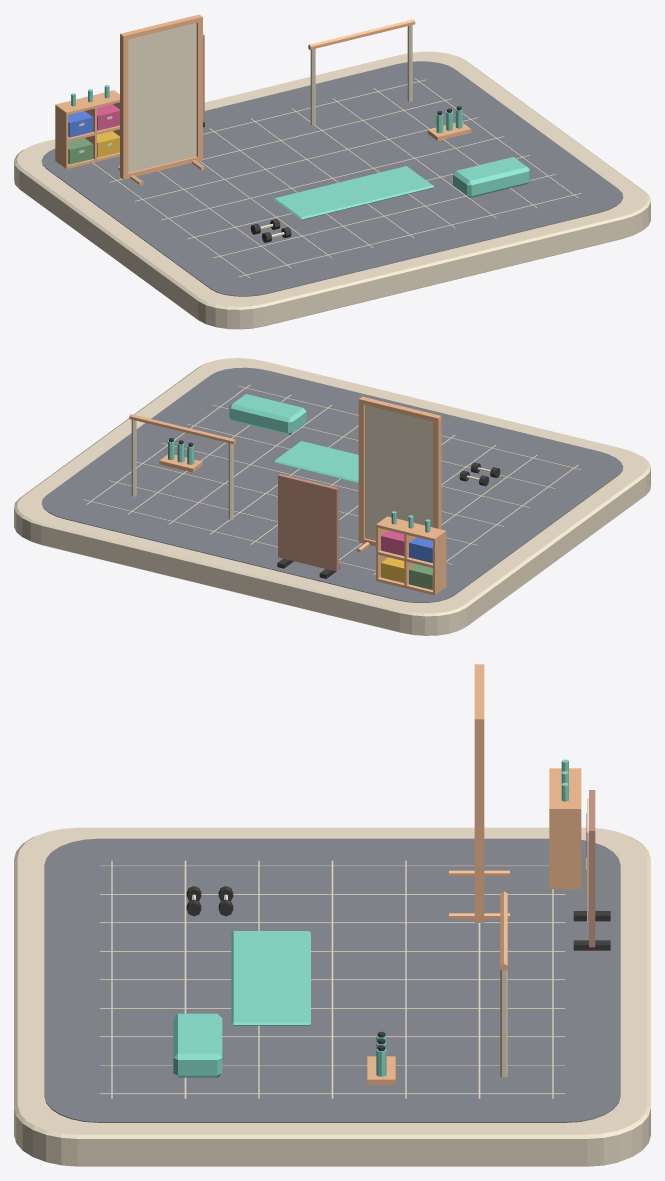
The picture shows the model from 3 angles, top to bottom: view 1: azimuth 30°, elevation 25°; view 2: azimuth 150°, elevation 25°; view 3: azimuth 270°, elevation 25°; orthographic projection. The views are drawn at different scales.
Parts seen in each view (by area): view 1: COM-02 Floor Surface, COM-01 Rounded Base Direct, Mirror face, Exercise mat, Step, Frame, Frame.001, Cubbies divider, Cubbies shelf.002, Bar, Frame.003, Storage bin (+7 smaller); view 2: COM-02 Floor Surface, COM-01 Rounded Base Direct, Mirror face, Panel, Step, Exercise mat, Frame, Frame.001, Cubbies divider, Cubbies shelf.002, Bar, Frame.003 (+7 smaller); view 3: COM-02 Floor Surface, COM-01 Rounded Base Direct, Exercise mat, Step, Cubbies divider.002, Frame.001, Cubbies shelf.002, Panel, Grout X.008, Grout X.002, Grout X, Post.001 (+3 smaller).
Boxes of the visible parts, x1,y1,x2,y2 form: COM-02 Floor Surface: [41, 61, 623, 296]; COM-01 Rounded Base Direct: [14, 51, 650, 329]; Mirror face: [128, 23, 196, 172]; Exercise mat: [274, 166, 434, 219]; Step: [453, 157, 530, 197]; Frame: [120, 35, 128, 177]; Frame.001: [196, 18, 202, 159]; Cubbies divider: [55, 105, 68, 168]; Cubbies shelf.002: [55, 90, 119, 114]; Bar: [308, 19, 415, 49]; Frame.003: [120, 14, 202, 39]; Storage bin: [68, 138, 93, 164]; COM-02 Floor Surface: [42, 367, 623, 602]; COM-01 Rounded Base Direct: [14, 358, 650, 635]; Mirror face: [365, 405, 432, 540]; Panel: [278, 473, 338, 571]; Step: [229, 394, 306, 434]; Exercise mat: [274, 441, 358, 483]; Frame: [433, 417, 441, 529]; Frame.001: [358, 400, 364, 540]; Cubbies divider: [433, 531, 446, 595]; Cubbies shelf.002: [376, 516, 445, 540]; Bar: [129, 414, 236, 444]; Frame.003: [358, 396, 441, 421]; COM-02 Floor Surface: [44, 838, 620, 1122]; COM-01 Rounded Base Direct: [14, 827, 650, 1166]; Exercise mat: [231, 931, 310, 1025]; Step: [173, 1013, 222, 1077]; Cubbies divider.002: [549, 809, 581, 889]; Frame.001: [474, 721, 484, 921]; Cubbies shelf.002: [549, 768, 581, 809]; Panel: [589, 790, 595, 947]; Grout X.008: [99, 1093, 565, 1094]; Grout X.002: [99, 922, 565, 923]; Grout X: [100, 865, 548, 866]; Post.001: [500, 970, 507, 1077].
Bounding box in the file's own units: 6 × 2.15 × 5.2.
1 material, 1 textured.
